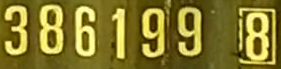eight: (40, 5, 65, 57), (246, 13, 272, 62)
nine: (178, 7, 203, 58), (141, 10, 166, 60)
one: (114, 9, 128, 62)
six: (76, 7, 97, 58)
three: (5, 5, 29, 57)
